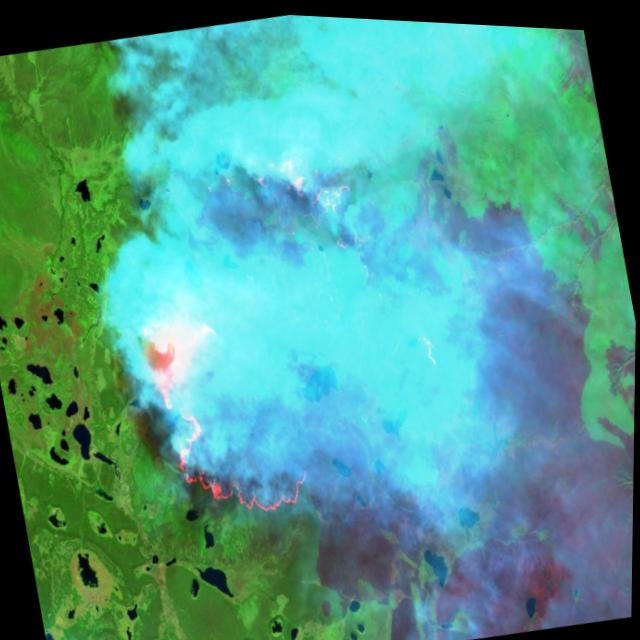fire: (74, 43, 476, 557)
